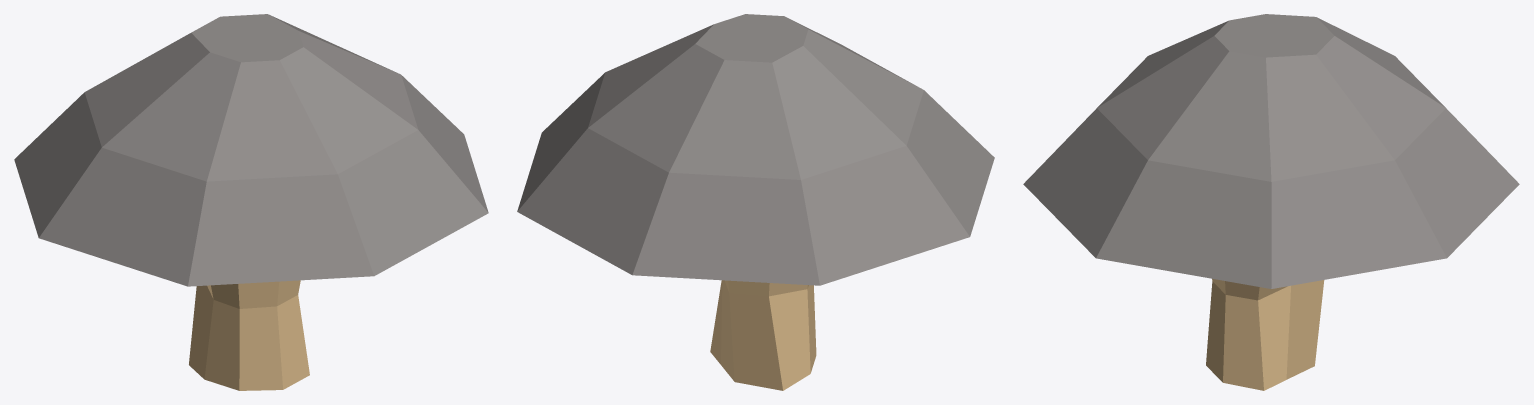
The model's file is GrayMushroom.fbx.
3 views of the same model, side by side, from view 1: azimuth 30°, elevation 25°; view 2: azimuth 150°, elevation 25°; view 3: azimuth 270°, elevation 25° (orthographic).
Parts seen in each view (by area): view 1: Circle; view 2: Circle; view 3: Circle.
Part boxes in pixels (x1,y1,x2,y2): Circle: (14,14,488,390); Circle: (517,14,994,390); Circle: (1023,14,1519,390).
Bounding box in the file's own units: 98.96 × 72.82 × 98.96.
